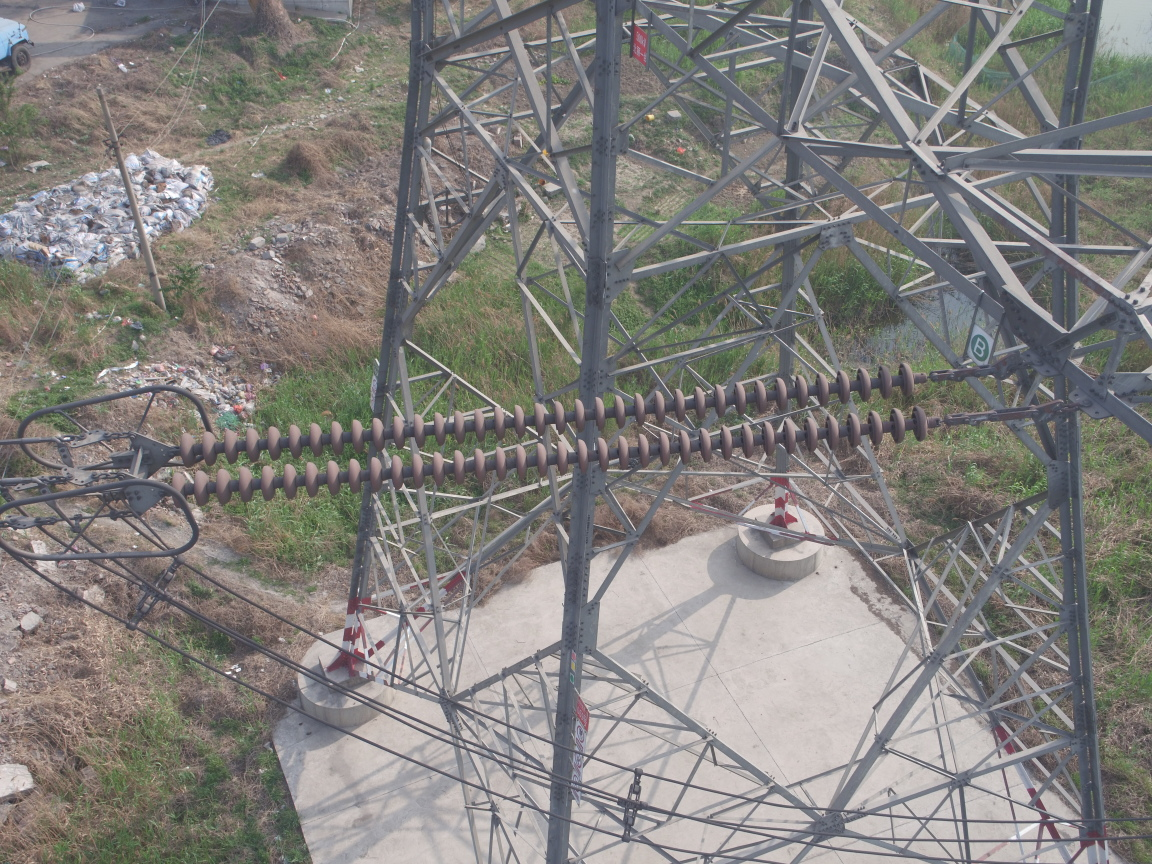insulator: (148, 357, 972, 508)
